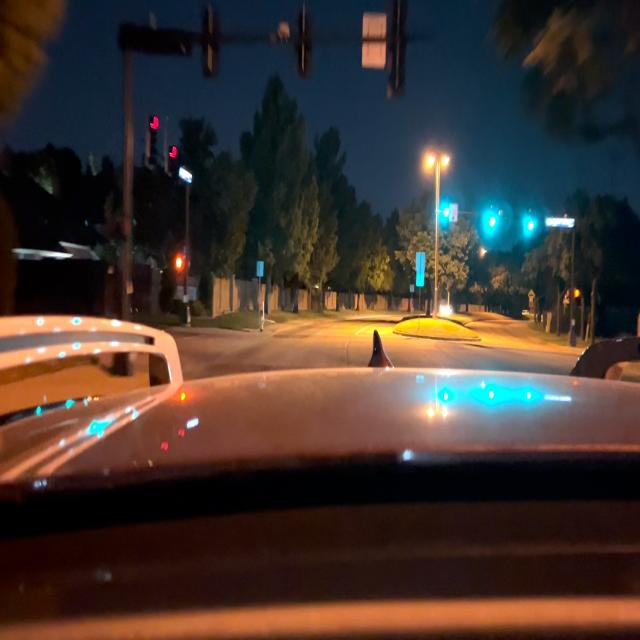back-of-sign: (416, 253, 424, 286)
